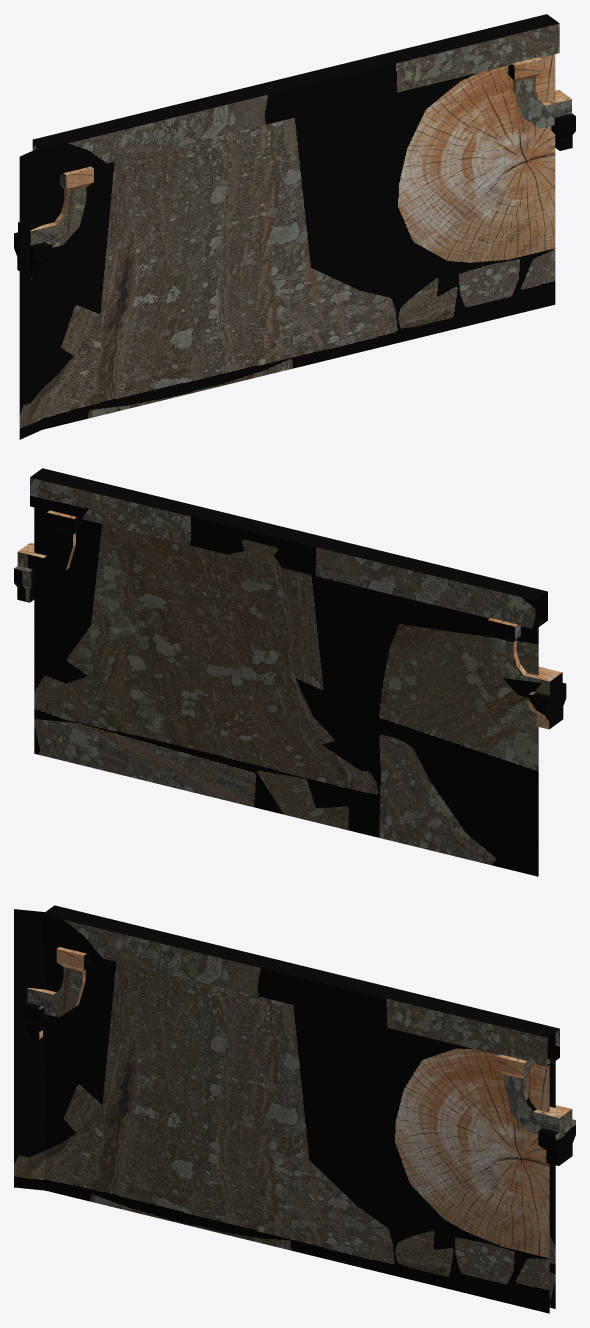
Rendered from palace-topwall.fbx.
The picture shows the model from 3 angles, top to bottom: view 1: azimuth 30°, elevation 25°; view 2: azimuth 150°, elevation 25°; view 3: azimuth 330°, elevation 25°; orthographic projection.
Parts seen in each view (by area): view 1: Cylinder.001_Baked; view 2: Cylinder.001_Baked; view 3: Cylinder.001_Baked.
Boxes of the visible parts, <box> form: Cylinder.001_Baked: <box>14,14,575,439</box>; Cylinder.001_Baked: <box>14,468,566,876</box>; Cylinder.001_Baked: <box>14,905,575,1313</box>.
Bounding box in the file's own units: 818 × 400 × 52.71.
